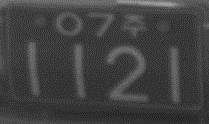0: (53, 10, 83, 37)
1: (17, 41, 53, 98), (158, 46, 192, 104), (64, 43, 98, 98)
2: (106, 43, 150, 104)
7: (87, 11, 116, 37)
주: (121, 11, 148, 37)
